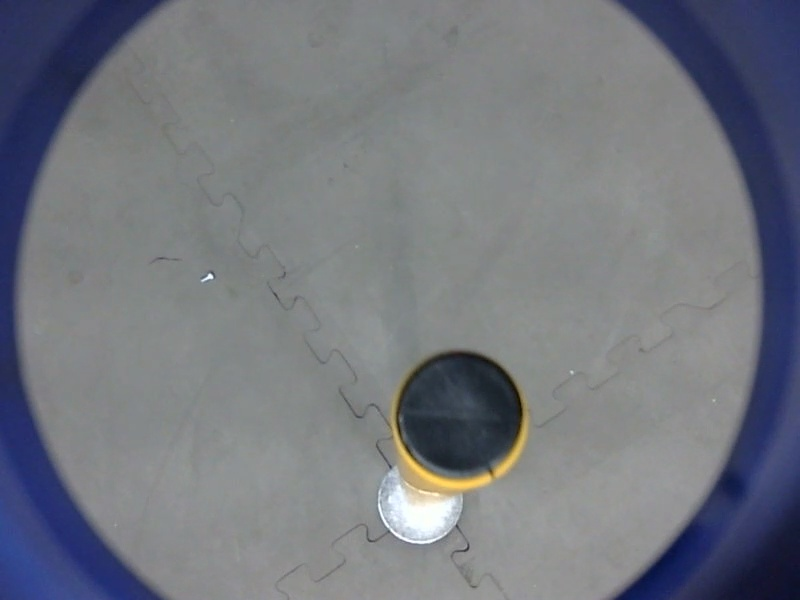tip: (386, 345, 536, 492)
